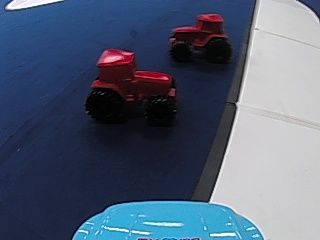tractor: (84, 43, 173, 123), (167, 11, 232, 64)
